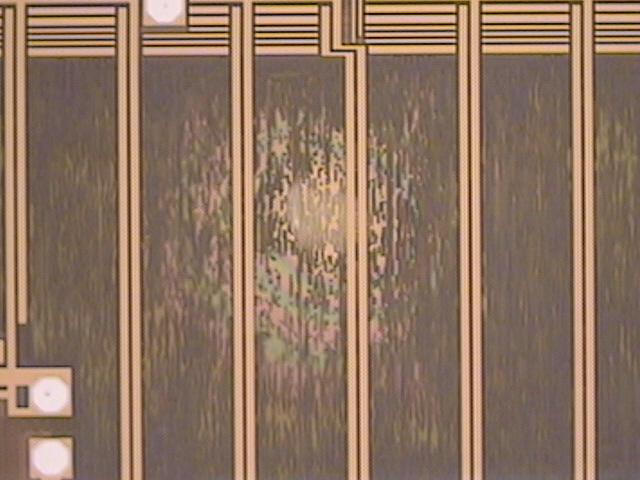BLOCK ETCH: (124, 47, 495, 403)
